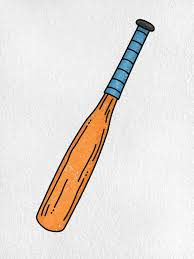baseball bat: (34, 18, 155, 233)
